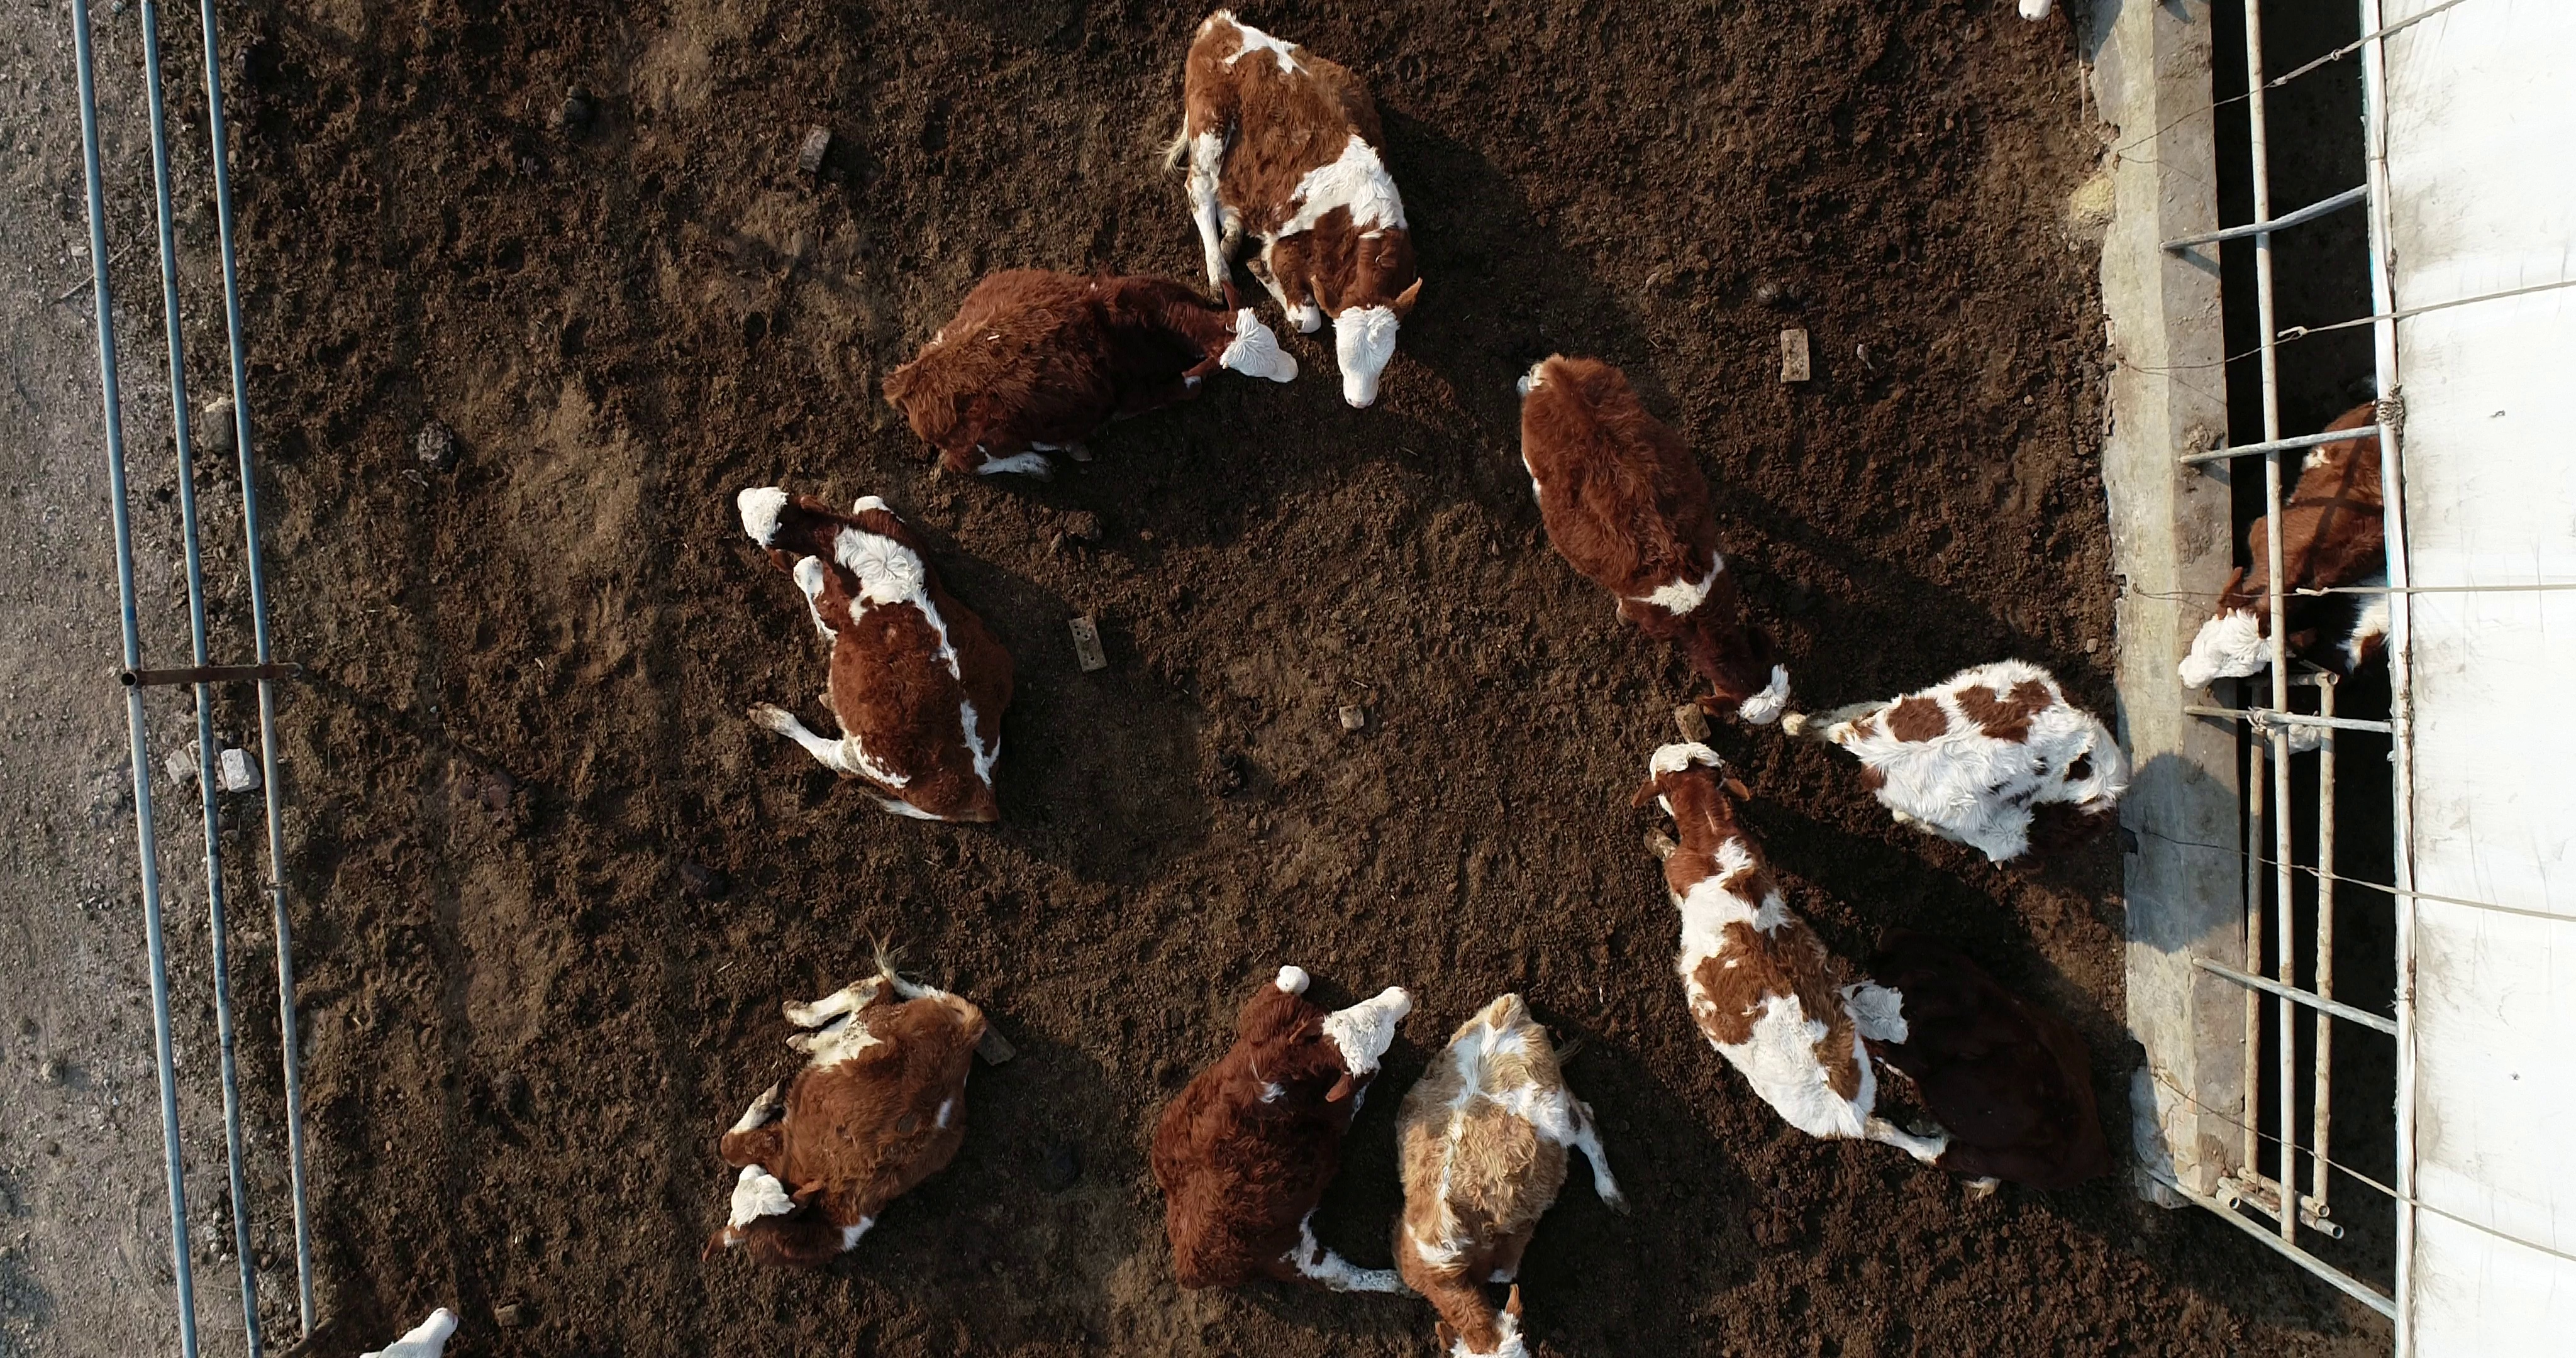cattle: (1153, 10, 1433, 416), (1511, 349, 1799, 731), (1624, 739, 1889, 1148), (727, 482, 1022, 837), (876, 264, 1302, 484)
